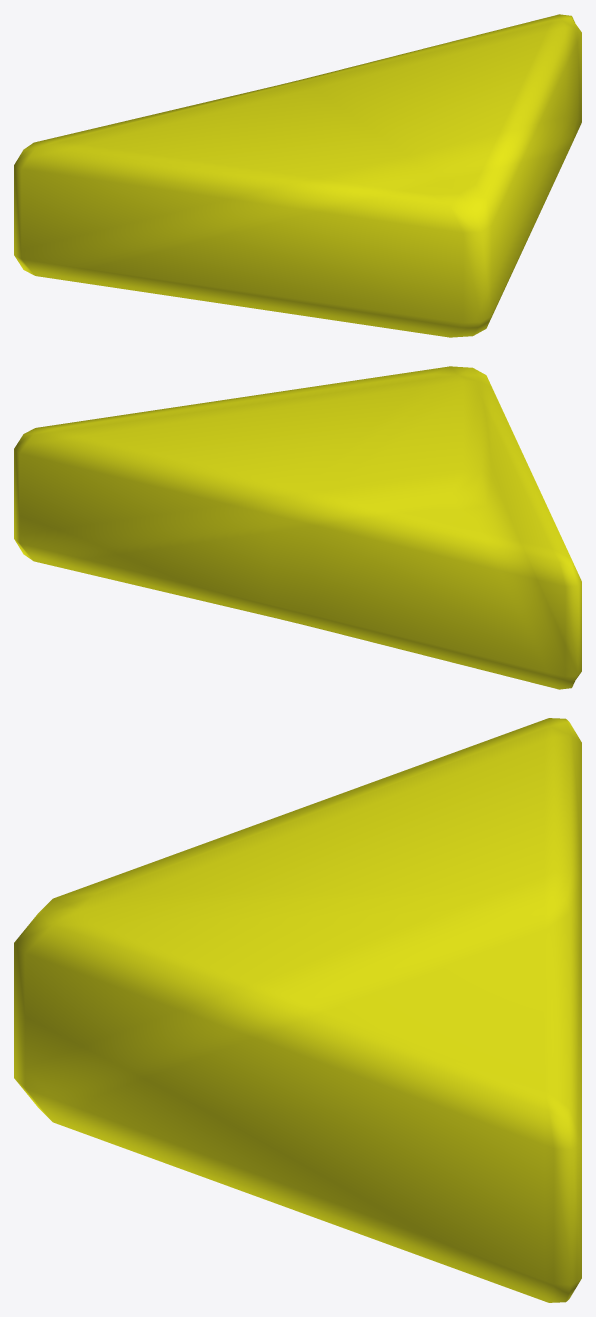
The model's file is Arrow.fbx.
3 renders of one model, top to bottom at view 1: azimuth 30°, elevation 25°; view 2: azimuth 150°, elevation 25°; view 3: azimuth 270°, elevation 25°, orthographic. The views are drawn at different scales.
Parts seen in each view (by area): view 1: node; view 2: node; view 3: node.
Part boxes in pixels (box(x1,y1,x2,y2)): node: box(14, 14, 581, 337); node: box(14, 366, 581, 689); node: box(14, 718, 581, 1302).
Bounding box in the file's own units: 0.7269 × 0.1663 × 0.4218.
